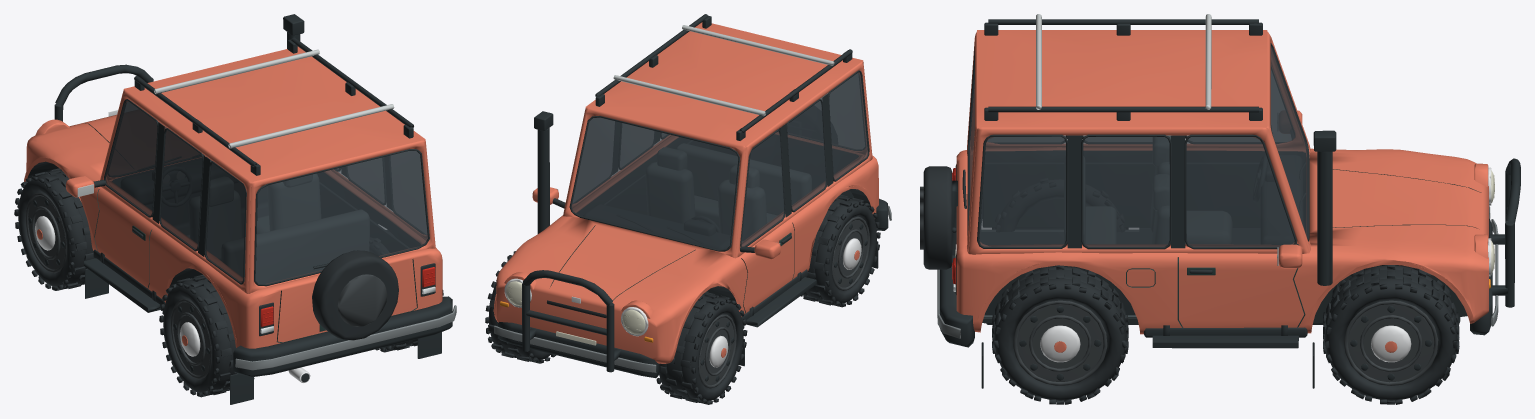
File: cob_lod2.fbx
3 views of the same model, side by side, from view 1: azimuth 30°, elevation 25°; view 2: azimuth 150°, elevation 25°; view 3: azimuth 270°, elevation 25° (orthographic). The views are drawn at different scales.
Parts seen in each view (by area): view 1: Body, Wheel_RL_Mesh, Wheel_FL_Mesh, Wheel_RR_Mesh; view 2: Body, Wheel_FL_Mesh, Wheel_RL_Mesh, Wheel_FR_Mesh; view 3: Body, Wheel_FR_Mesh, Wheel_RR_Mesh, Wheel_RL_Mesh.
Boxes of the visible parts, left/top/right/bottom form: Body: left=24, top=14, right=456, bottom=404; Wheel_RL_Mesh: left=159, top=274, right=254, bottom=397; Wheel_FL_Mesh: left=14, top=168, right=94, bottom=290; Wheel_RR_Mesh: left=369, top=230, right=443, bottom=352; Body: left=493, top=14, right=891, bottom=378; Wheel_FL_Mesh: left=656, top=292, right=747, bottom=404; Wheel_RL_Mesh: left=800, top=194, right=880, bottom=307; Wheel_FR_Mesh: left=485, top=251, right=555, bottom=363; Body: left=920, top=14, right=1520, bottom=388; Wheel_FR_Mesh: left=1322, top=265, right=1459, bottom=404; Wheel_RR_Mesh: left=992, top=265, right=1128, bottom=404; Wheel_RL_Mesh: left=992, top=178, right=1128, bottom=231.
Bounding box in the file's own units: 241 × 219 × 418.
